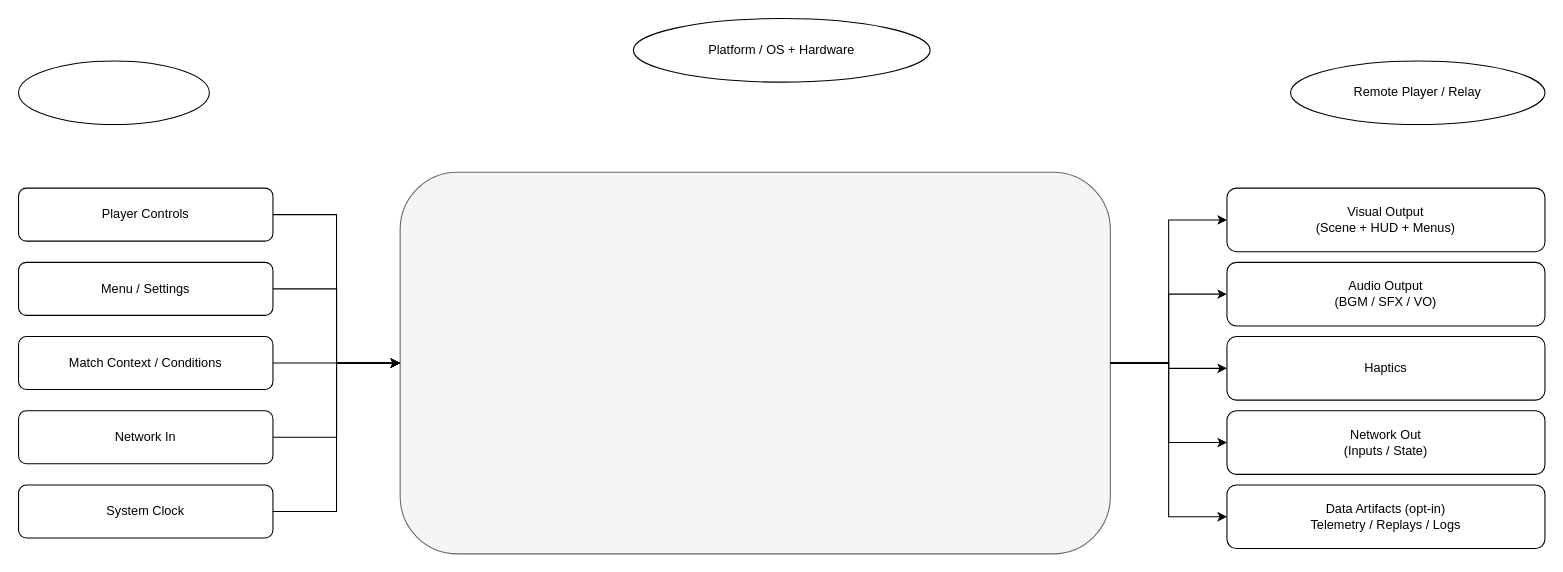
The diagram is 1563 pixels wide and 572 high, and some of its shapes have lost their labels. Here are the shapes that lost their labels. From the top down, the centre of each, then its label:
At pixel 113 92: "Local Player".
At pixel 754 362: "ADAPTABRAWL (Game System)".
